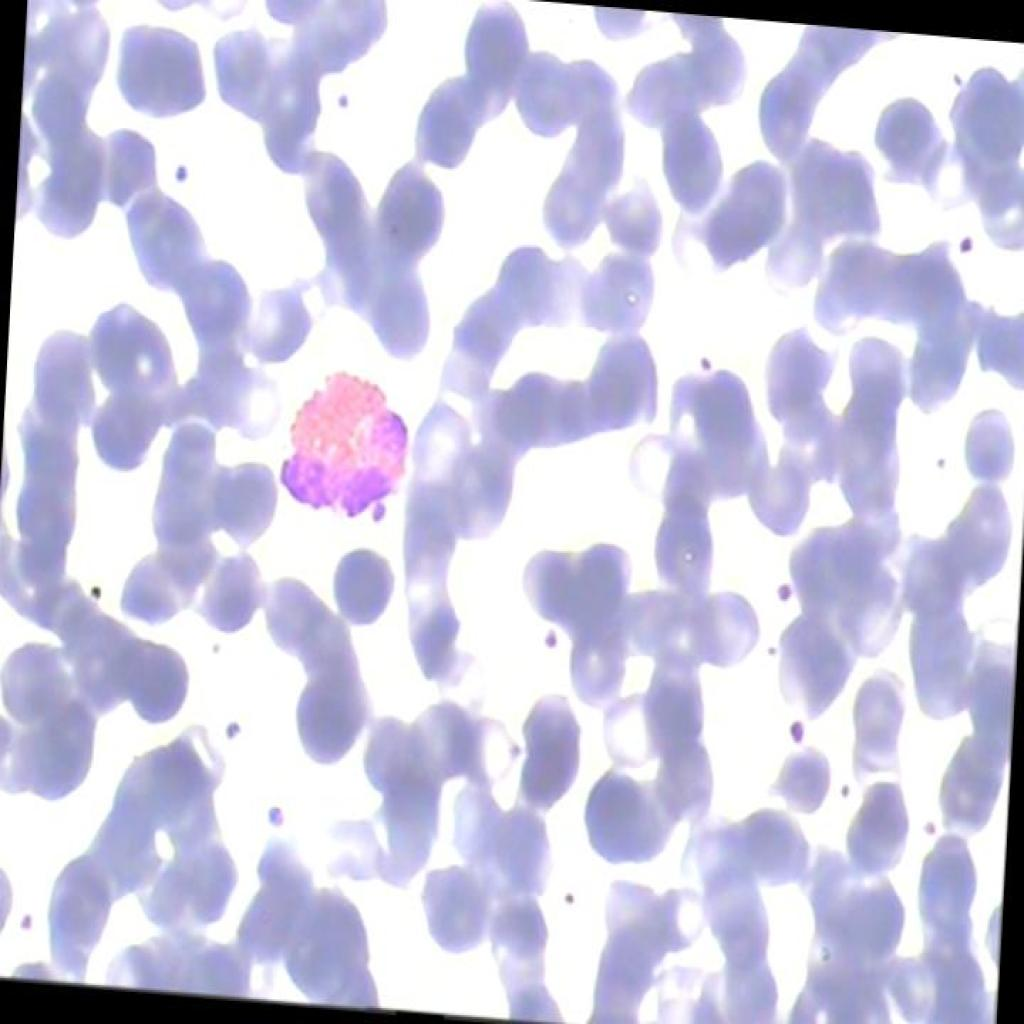Eosinofil: (272, 354, 424, 532)
Platelet: (949, 212, 987, 284), (532, 612, 566, 672), (330, 66, 363, 126), (548, 866, 583, 922), (258, 782, 294, 836), (164, 150, 204, 198), (776, 706, 810, 762), (687, 334, 721, 382), (829, 762, 861, 812), (10, 892, 36, 946), (767, 567, 795, 615), (915, 804, 947, 846), (496, 718, 524, 761), (78, 567, 104, 612), (218, 700, 242, 748)
